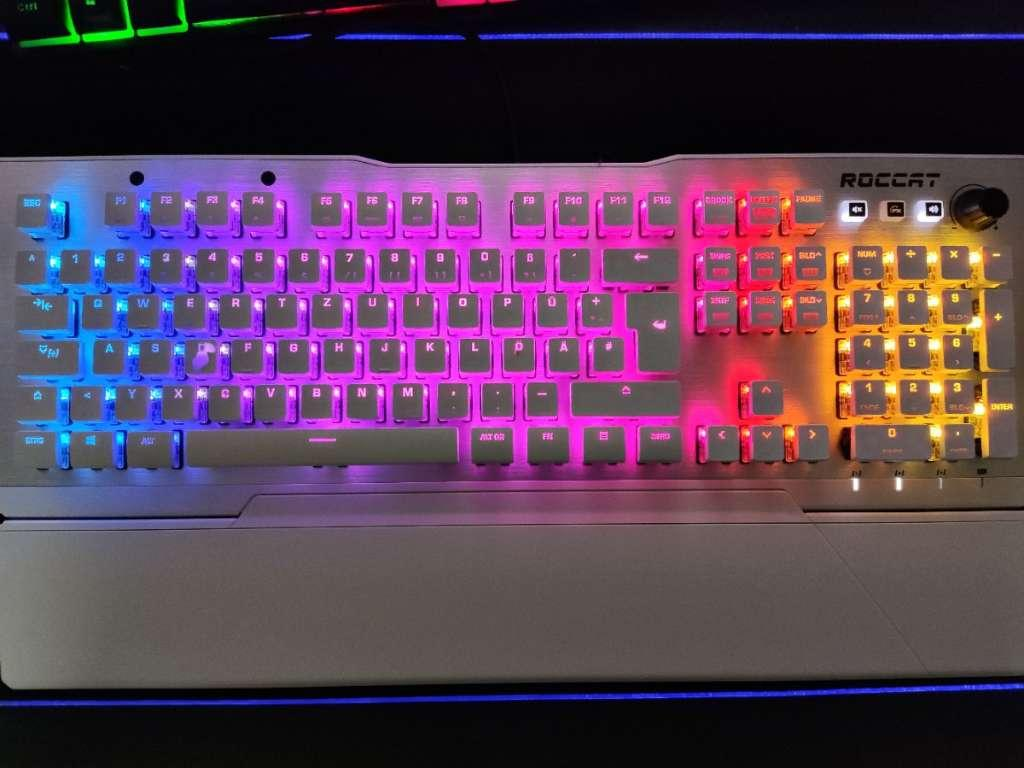0: (466, 243, 500, 280)
1: (57, 246, 90, 282)
2: (102, 246, 136, 283)
3: (148, 245, 181, 283)
4: (195, 245, 228, 281)
5: (240, 245, 274, 281)
6: (286, 244, 320, 281)
7: (331, 244, 364, 282)
8: (375, 244, 410, 282)
9: (421, 244, 455, 281)
a: (91, 337, 124, 372)
accent: (556, 244, 588, 279)
ae: (545, 333, 578, 369)
alt-left: (123, 427, 174, 467)
altgr-right: (467, 422, 512, 461)
b: (298, 380, 332, 417)
c: (207, 381, 239, 418)
caret: (13, 246, 45, 282)
comma: (434, 378, 468, 416)
d: (185, 337, 218, 372)
del: (600, 244, 676, 279)
e: (172, 290, 205, 327)
enter: (624, 286, 677, 371)
f: (230, 336, 262, 371)
g: (275, 336, 308, 371)
h: (321, 335, 353, 370)
hash: (590, 332, 622, 368)
i: (400, 290, 433, 324)
j: (366, 334, 399, 369)
k: (412, 334, 445, 370)
keyboard: (7, 153, 1023, 516)
l: (457, 334, 489, 370)
less: (68, 383, 102, 420)
m: (389, 379, 423, 417)
minus: (522, 377, 556, 414)
n: (344, 379, 378, 417)
o: (444, 290, 478, 324)
oe: (500, 333, 533, 370)
p: (489, 289, 522, 325)
plus: (578, 288, 610, 324)
point: (479, 378, 512, 415)
q: (79, 291, 113, 327)
r: (218, 291, 250, 327)
s: (137, 337, 170, 372)
shift-left: (10, 385, 58, 421)
shift-lock: (14, 338, 78, 373)
shift-right: (569, 376, 679, 414)
space: (181, 424, 457, 465)
ss: (511, 245, 545, 281)
strg-left: (9, 430, 60, 470)
strg-right: (634, 421, 681, 460)
t: (264, 291, 296, 326)
tab: (13, 292, 68, 327)
u: (355, 290, 387, 326)
ue: (534, 289, 567, 325)
v: (252, 380, 286, 418)
w: (125, 291, 158, 327)
x: (161, 382, 193, 417)
y: (113, 383, 146, 419)
z: (309, 290, 341, 326)
